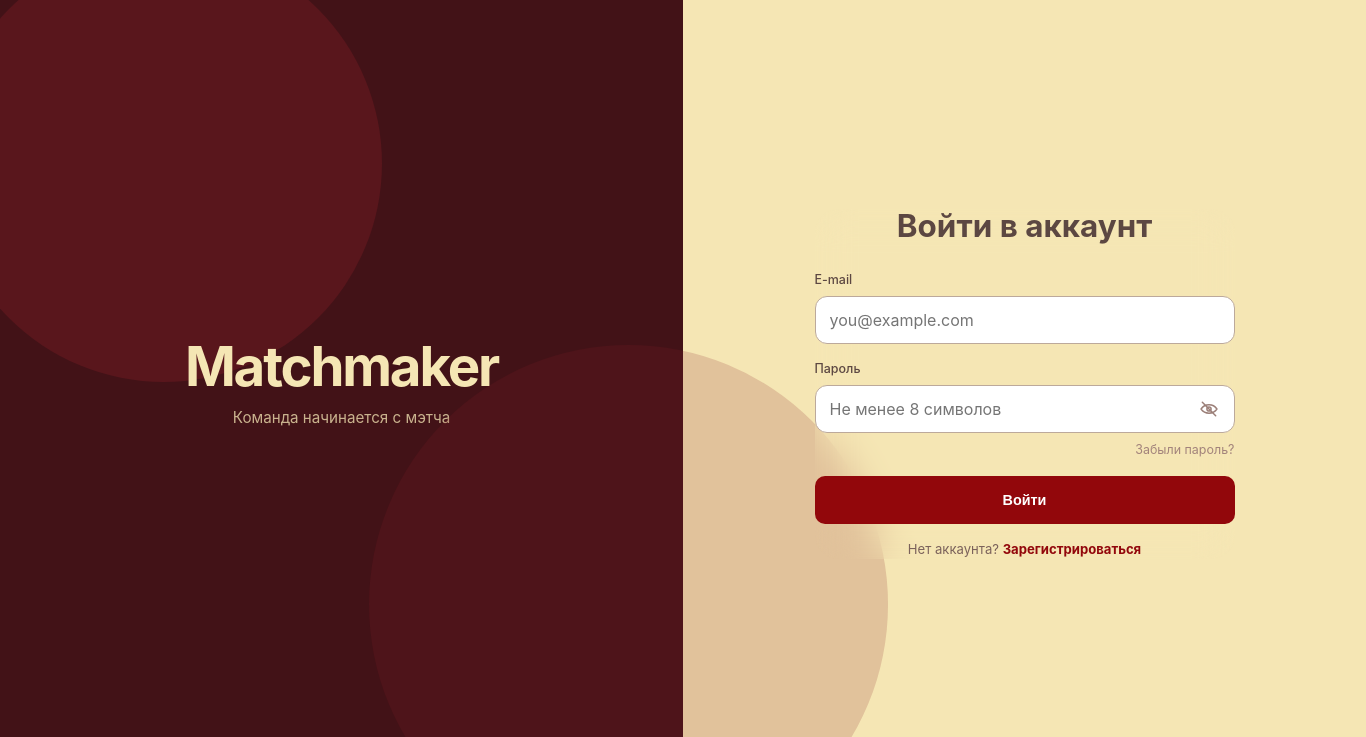
Test: auth pages › logs in a returning user and redirects to feed
The width and height of the screenshot is (1366, 737).
In the field labelled "E-mail": {"x": 1024, "y": 320} [814,296,1234,344], type "test@example.com"
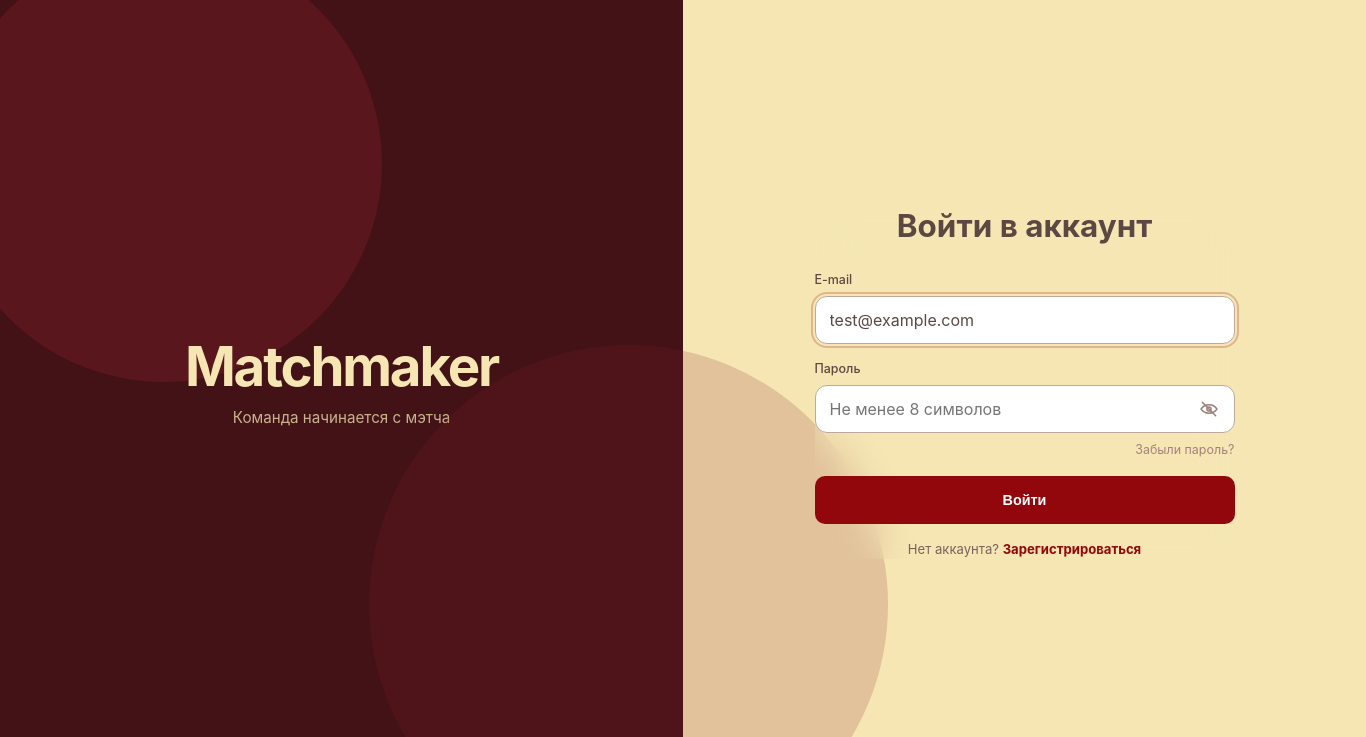
In the password field labelled "Пароль": {"x": 1024, "y": 409} [814,385,1234,433], type "password123"
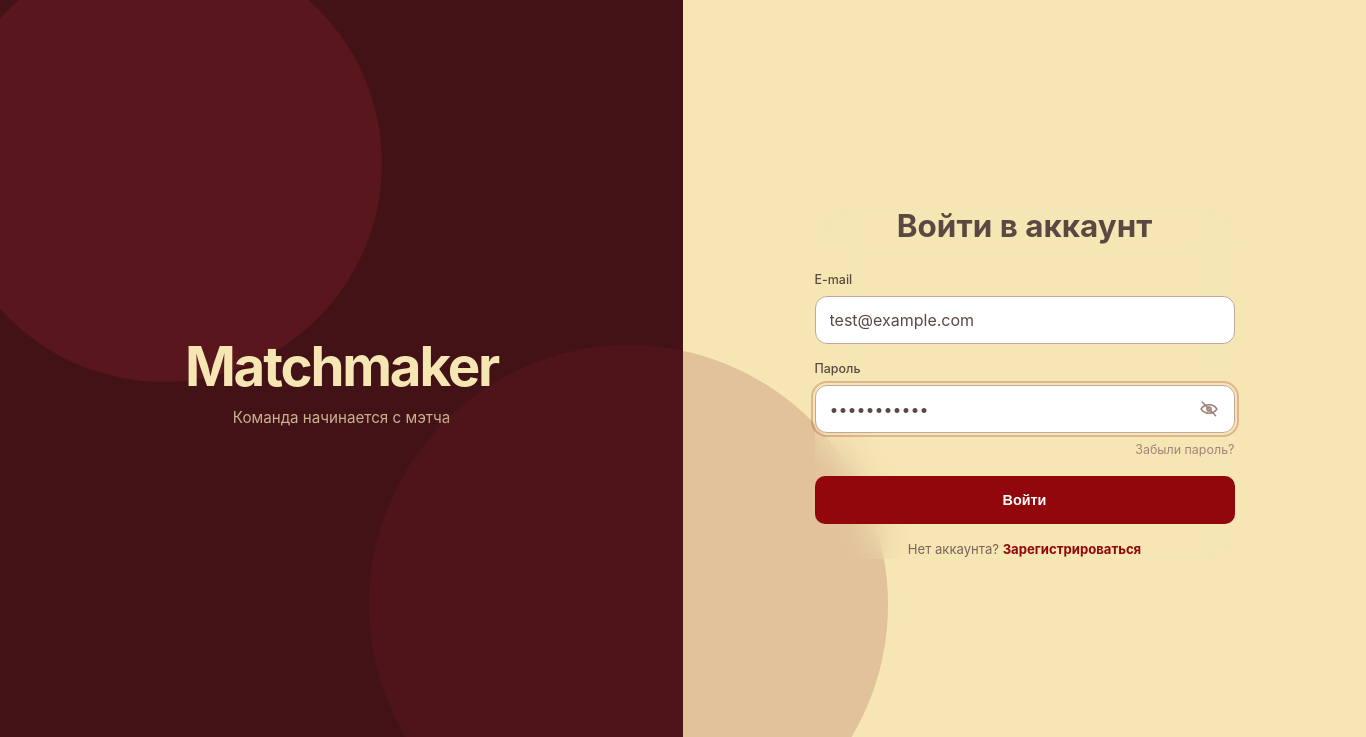
Click the button "Войти": {"x": 1024, "y": 500} [814,476,1234,524]
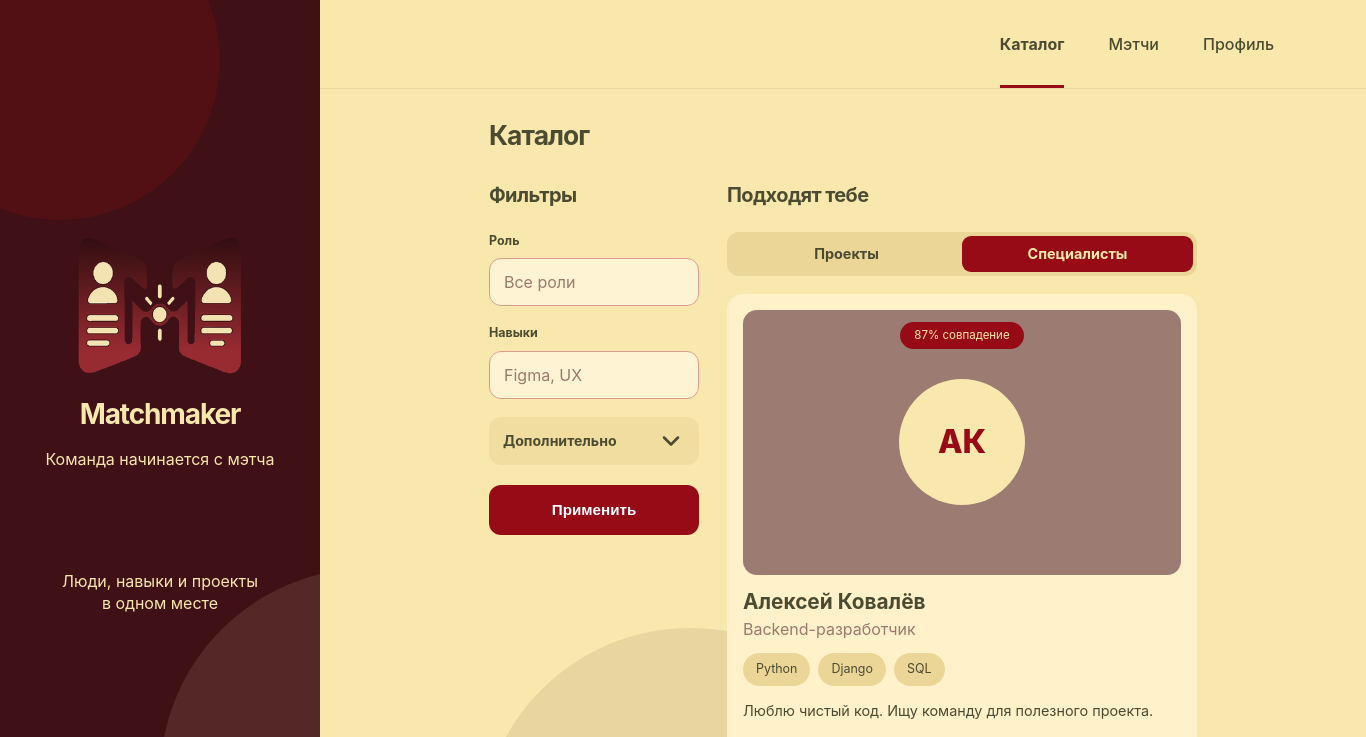
Now the heading named "Лента" is shown, box [489,121,589,150]
